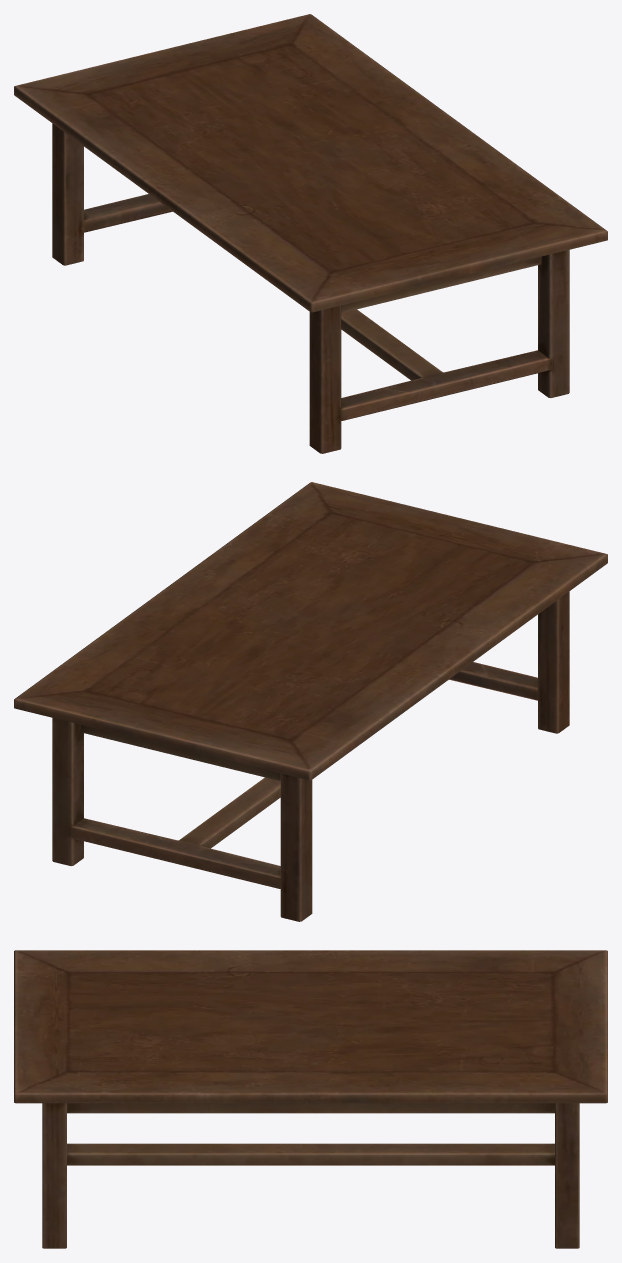
The model's file is heritage-farmhouse-table.glb.
3 renders of one model, top to bottom at view 1: azimuth 30°, elevation 25°; view 2: azimuth 150°, elevation 25°; view 3: azimuth 270°, elevation 25°, orthographic.
Parts seen in each view (by area): view 1: largetable_lowpoly_lambert1_0; view 2: largetable_lowpoly_lambert1_0; view 3: largetable_lowpoly_lambert1_0.
Boxes of the visible parts, x1=… form: largetable_lowpoly_lambert1_0: x1=14, y1=14, x2=607, y2=453; largetable_lowpoly_lambert1_0: x1=14, y1=482, x2=607, y2=921; largetable_lowpoly_lambert1_0: x1=14, y1=950, x2=607, y2=1248.
Size of the model in its own units: 0.0717 by 0.0385 by 0.1245.
1 material, 1 textured.
